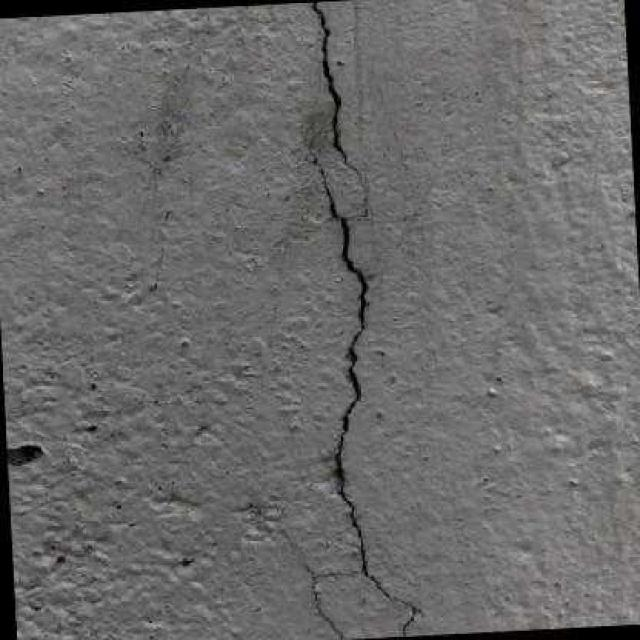D00: (304, 131, 420, 640), (308, 0, 369, 215)
